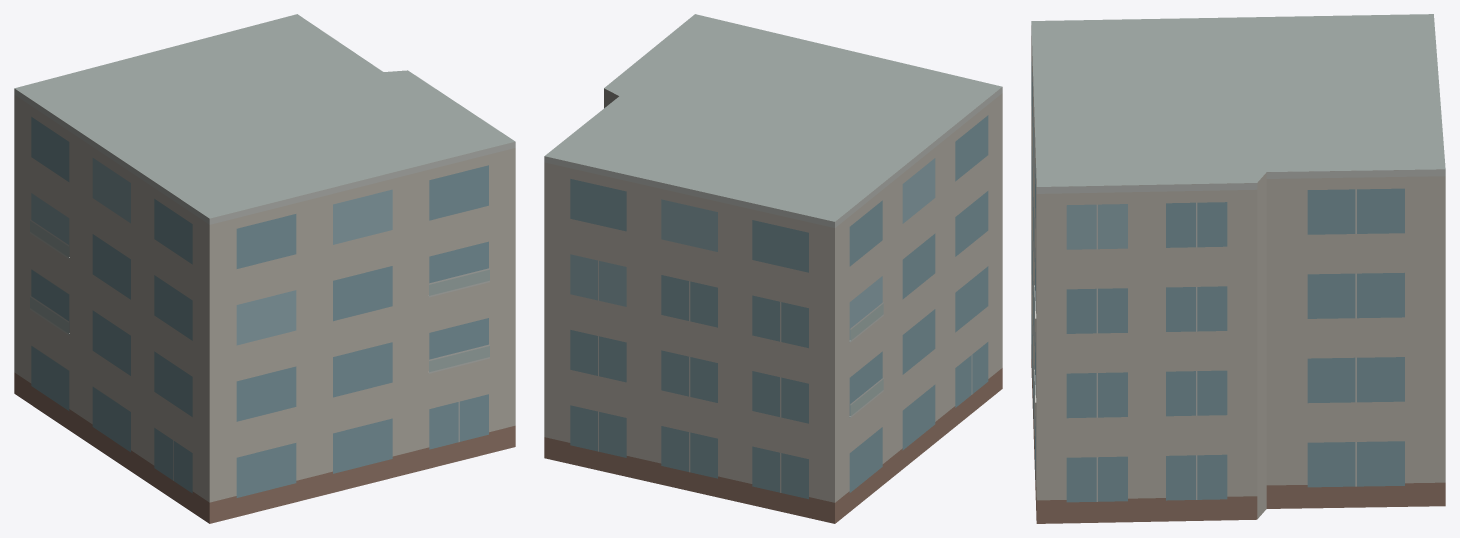
Rendered from survey-upis-32747346.glb.
3 renders of one model, left to right at view 1: azimuth 30°, elevation 25°; view 2: azimuth 150°, elevation 25°; view 3: azimuth 270°, elevation 25°, orthographic. The views are drawn at different scales.
Visible parts, largest first — view 1: survey-upis-32747346.tmp; view 2: survey-upis-32747346.tmp; view 3: survey-upis-32747346.tmp.
Boxes of the visible parts, bbox=[...] form: survey-upis-32747346.tmp: bbox=[14, 14, 515, 523]; survey-upis-32747346.tmp: bbox=[544, 14, 1002, 523]; survey-upis-32747346.tmp: bbox=[1031, 14, 1445, 523].
Bounding box in the file's own units: 13.12 × 11.9 × 13.28.
